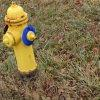a fire hydrant: (1, 6, 37, 74)
